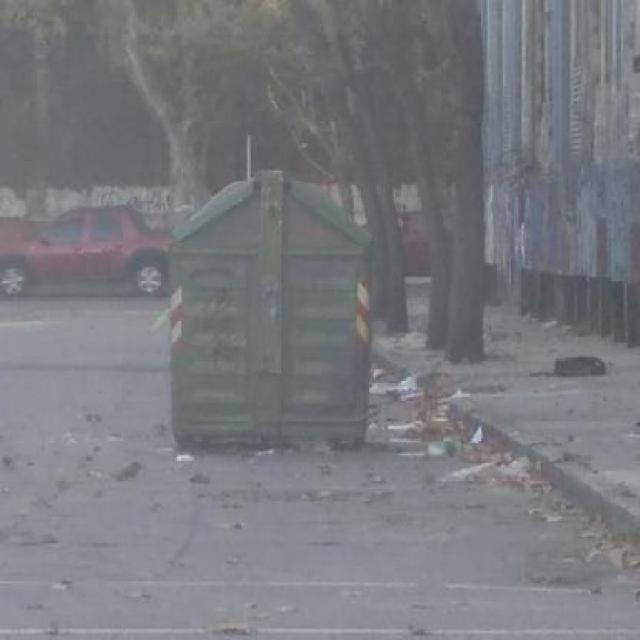garbage: (370, 362, 483, 461), (538, 491, 640, 574), (285, 442, 348, 484), (454, 451, 540, 480), (106, 454, 156, 489), (549, 351, 610, 378), (363, 471, 402, 508), (171, 451, 205, 486)
